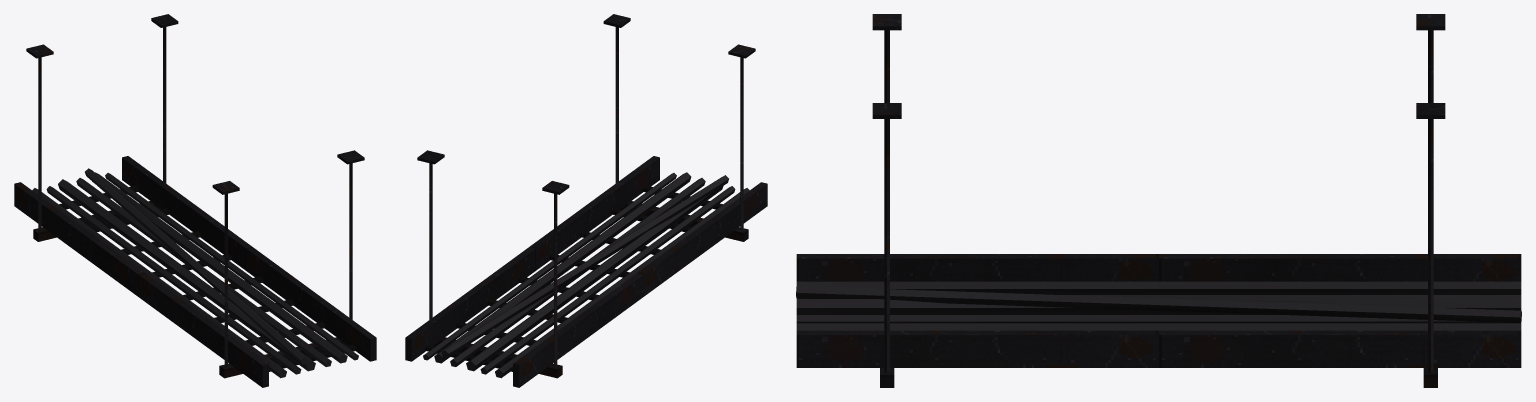
File: cable_tray.glb
The picture shows the model from 3 angles, left to right: view 1: azimuth 30°, elevation 25°; view 2: azimuth 150°, elevation 25°; view 3: azimuth 270°, elevation 25°; orthographic projection. The views are drawn at different scales.
Visible parts, largest first — view 1: body; view 2: body; view 3: body.
Boxes of the visible parts, bbox=[...] form: body: bbox=[14, 14, 376, 387]; body: bbox=[405, 14, 767, 387]; body: bbox=[796, 14, 1521, 387].
Bounding box in the file's own units: 0.66 × 0.84 × 2.
Materials: 3 (2 with a texture image).
